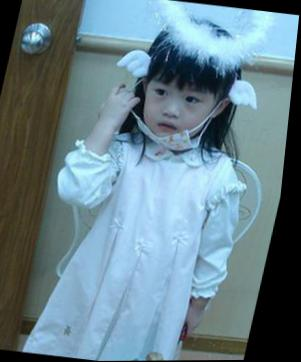WRONG: (140, 70, 223, 154)
